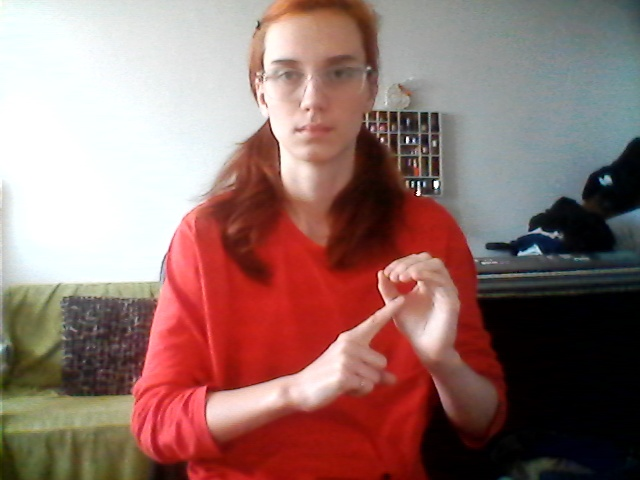q: (297, 251, 473, 425)
